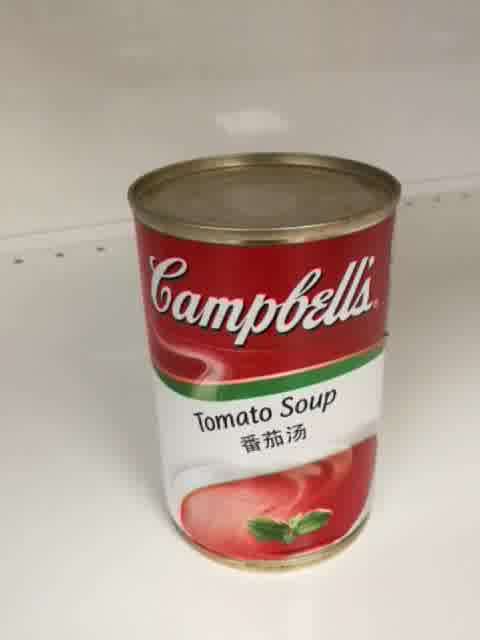tomatosoup: (124, 148, 404, 575)
